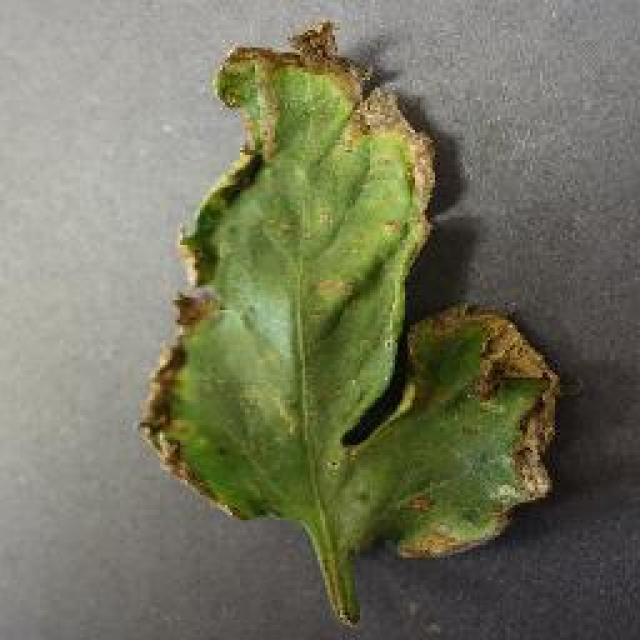Tomato bacterial spot leaf: (136, 19, 568, 568)
